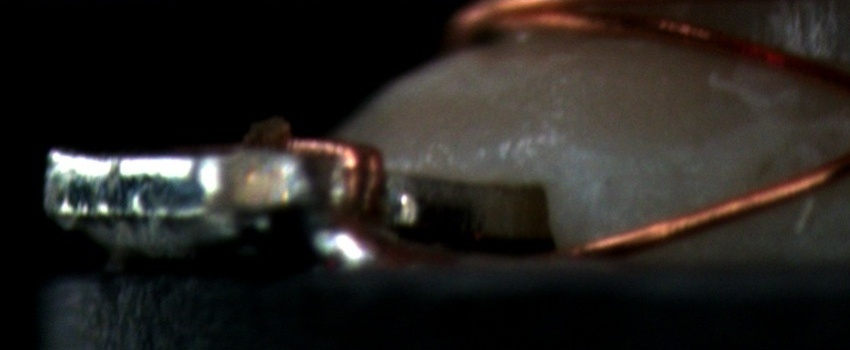DL: (576, 139, 767, 170)
TE: (275, 135, 396, 226)
